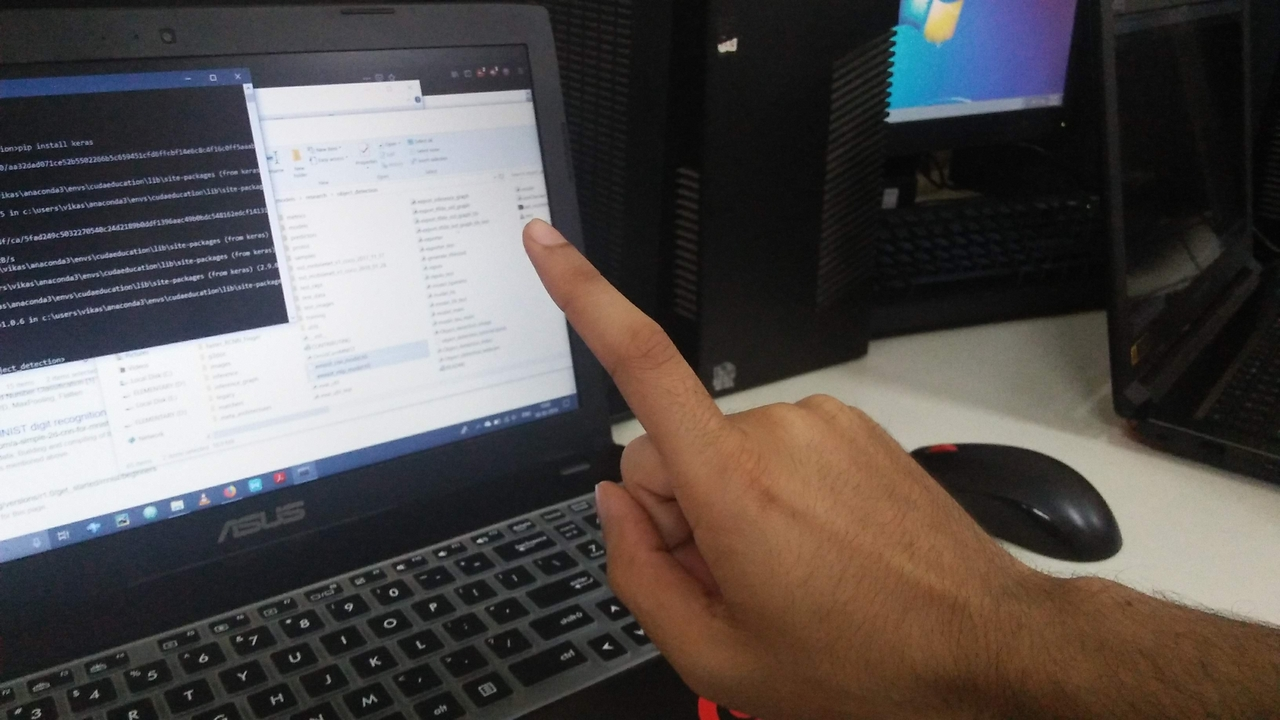fingertip: (510, 212, 568, 264)
